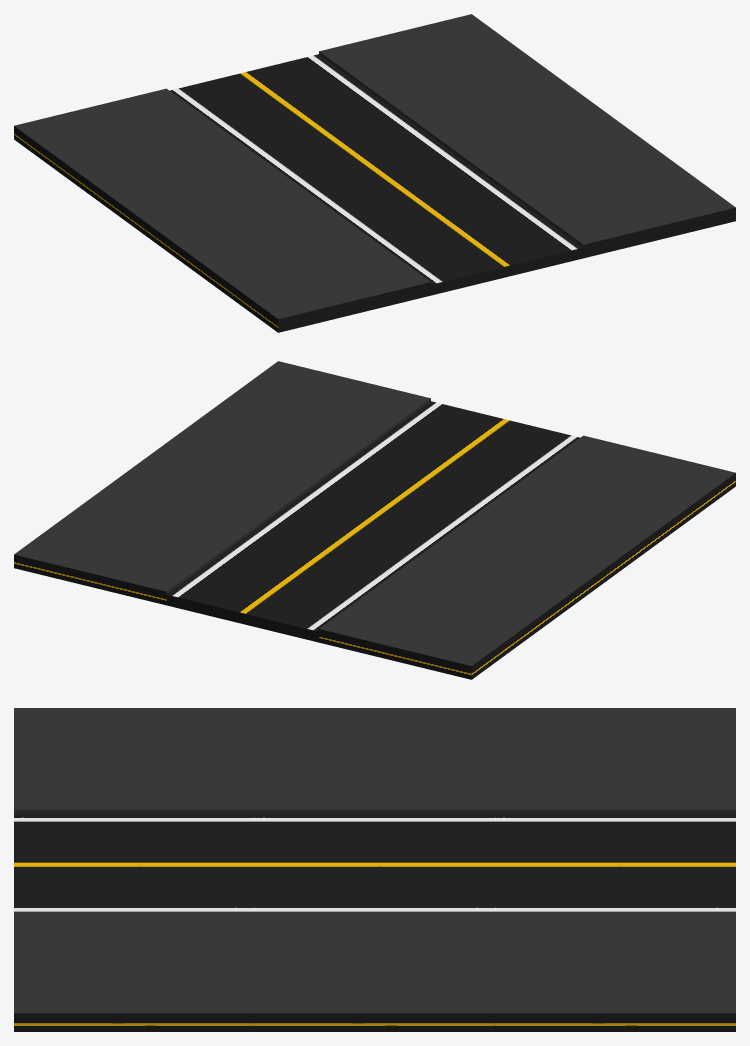
The model's file is road.fbx.
The picture shows the model from 3 angles, top to bottom: view 1: azimuth 30°, elevation 25°; view 2: azimuth 150°, elevation 25°; view 3: azimuth 270°, elevation 25°; orthographic projection. The views are drawn at different scales.
Parts seen in each view (by area): view 1: Cube; view 2: Cube; view 3: Cube.
Boxes of the visible parts, left/top/right/bottom form: Cube: left=14, top=14, right=735, bottom=332; Cube: left=14, top=361, right=735, bottom=679; Cube: left=14, top=708, right=735, bottom=1031.
Size of the model in its own units: 8400 by 240 by 8400.
Materials: 2 (1 with a texture image).
